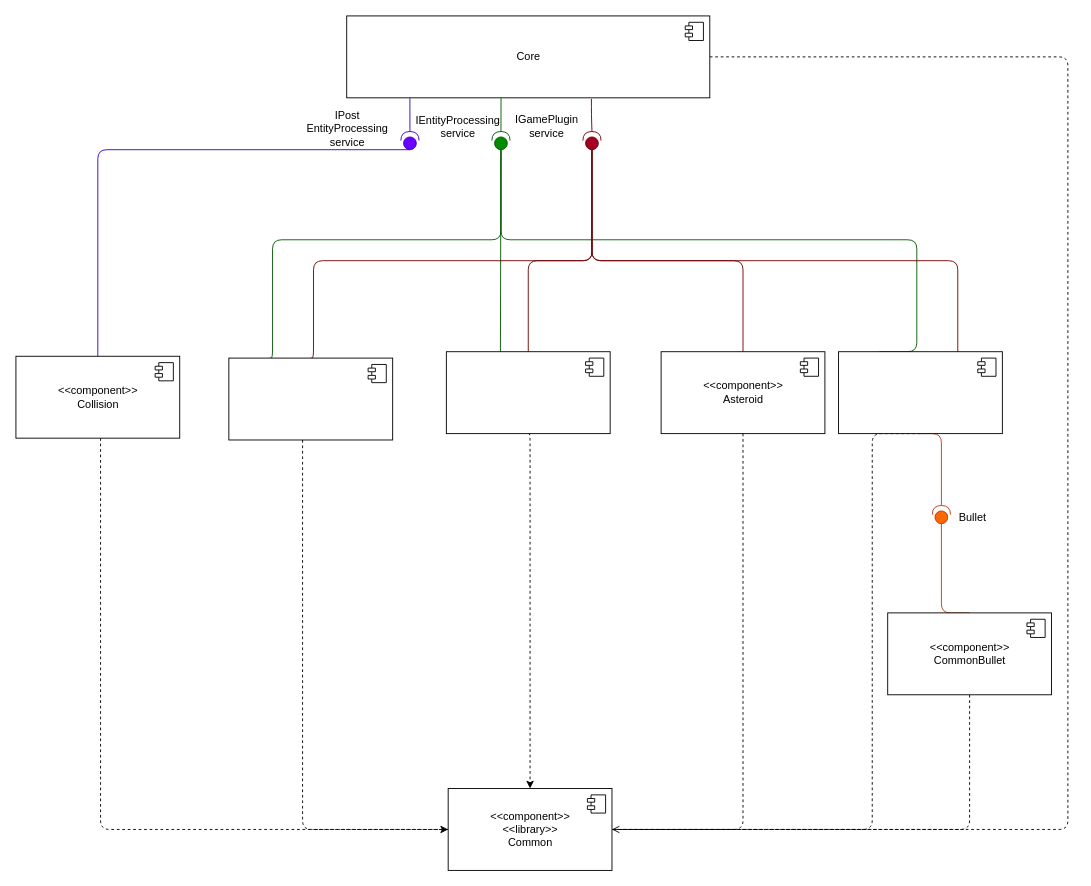
Image size: 1091x886. Some labels were removed from this diagram. The box of each missing label's shape, as (x1, y1, x2, y2) in pixels:
<<component>> Bullet: (838, 351, 1002, 434)
<<component>> Enemy: (228, 357, 393, 440)
<<component>> Player: (445, 351, 610, 434)
